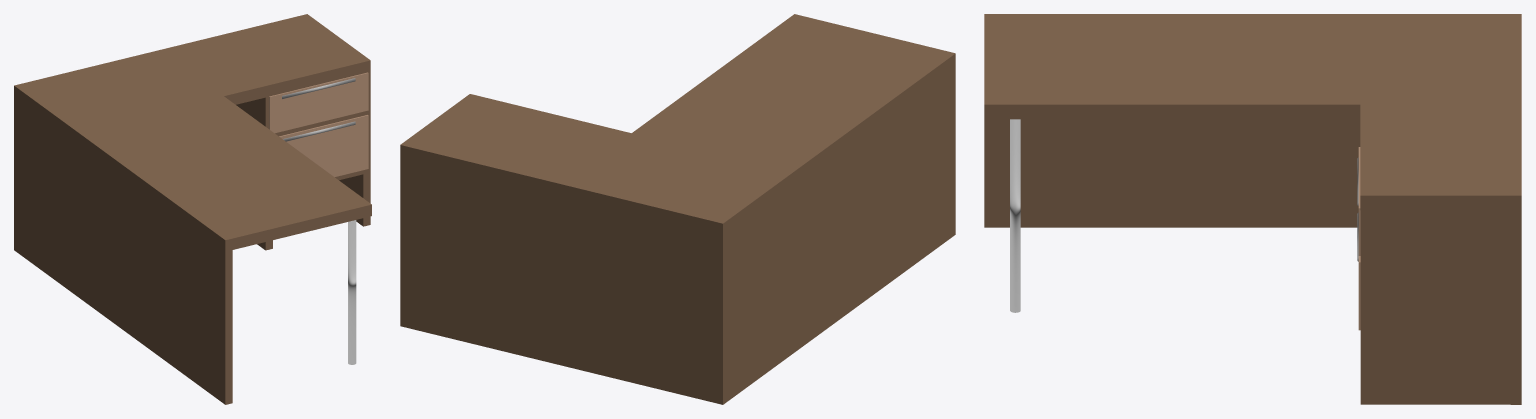
The model's file is office desk.fbx.
3 renders of one model, left to right at view 1: azimuth 30°, elevation 25°; view 2: azimuth 150°, elevation 25°; view 3: azimuth 270°, elevation 25°, orthographic. The views are drawn at different scales.
Parts seen in each view (by area): view 1: Cube; view 2: Cube; view 3: Cube.
Boxes of the visible parts, x1,y1,x2,y2 form: Cube: (14,14,371,404); Cube: (400,14,955,404); Cube: (984,14,1521,404).
Bounding box in the file's own units: 801 × 432 × 1000.
